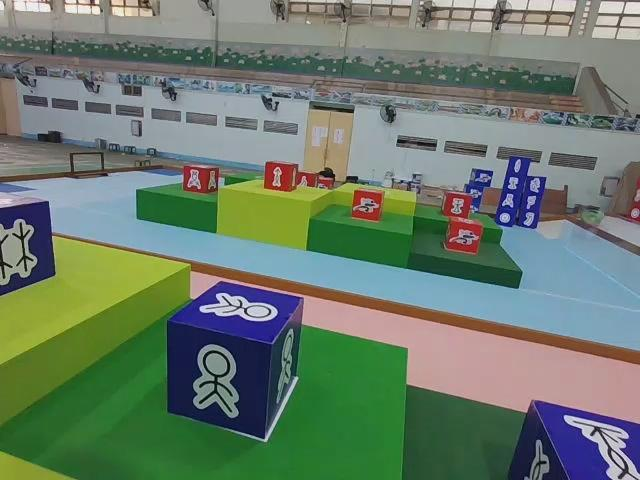R2 Real Blue: (167, 282, 302, 446), (506, 401, 639, 480), (0, 197, 56, 307)
